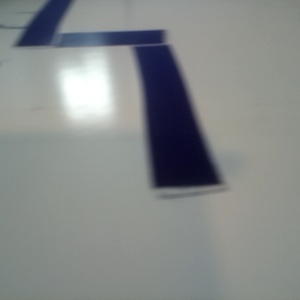bottom_left: (22, 57, 124, 109)
bottom_right: (92, 48, 201, 97)
